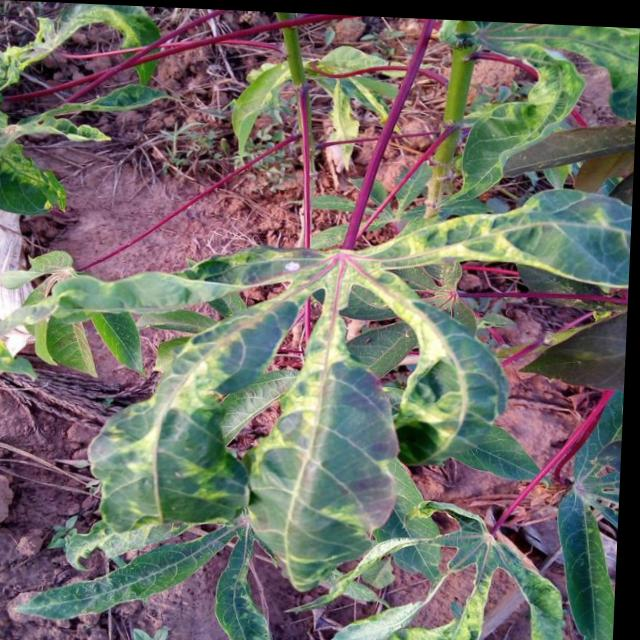Mosaico: (184, 247, 507, 560), (292, 501, 575, 637), (473, 27, 640, 195), (4, 269, 240, 371)
